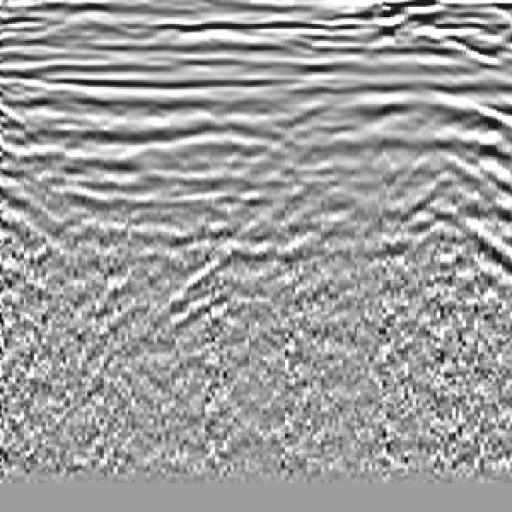metalic: (1, 79, 56, 194)
non-metallic: (385, 87, 512, 331)
